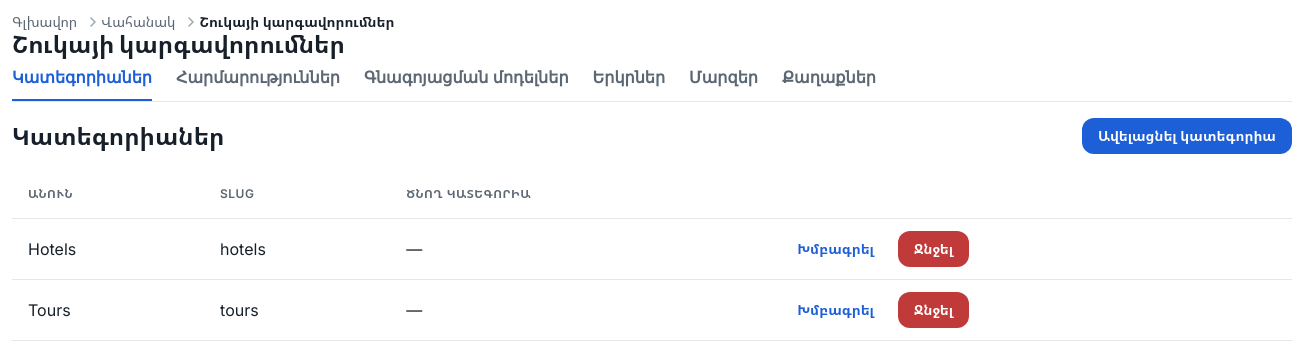
it: AdminMarketplaceConfigPageContent (apps/web/src/modules/admin) › switching to the Amenities tab shows amenity rows with their group name
This screenshot has width=1304, height=358.
Expected: the text "Hotels" is shown, [12,218,204,280]
Click the tab "Հարմարություններ".
click(258, 78)  # box [176,56,340,101]
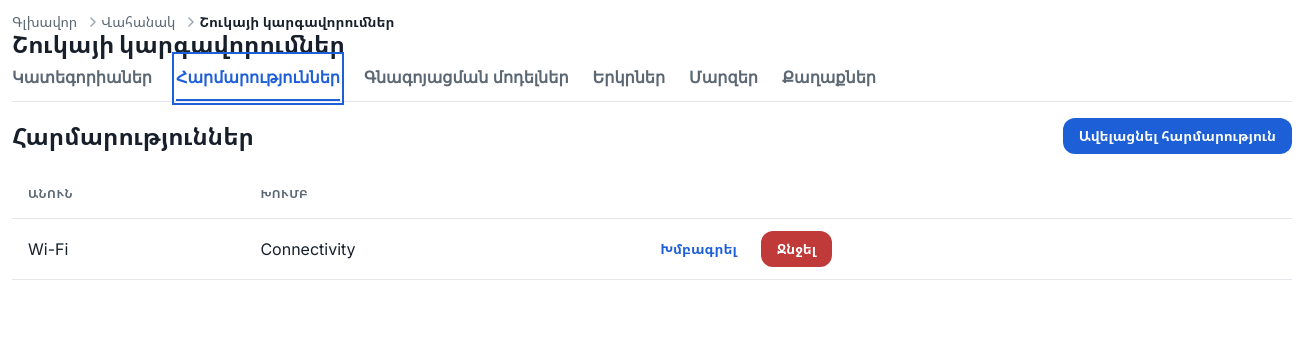
Expected: the text "Wi-Fi" is shown, [12,218,244,280]
Expected: the text "Connectivity" is shown, [244,218,628,280]
